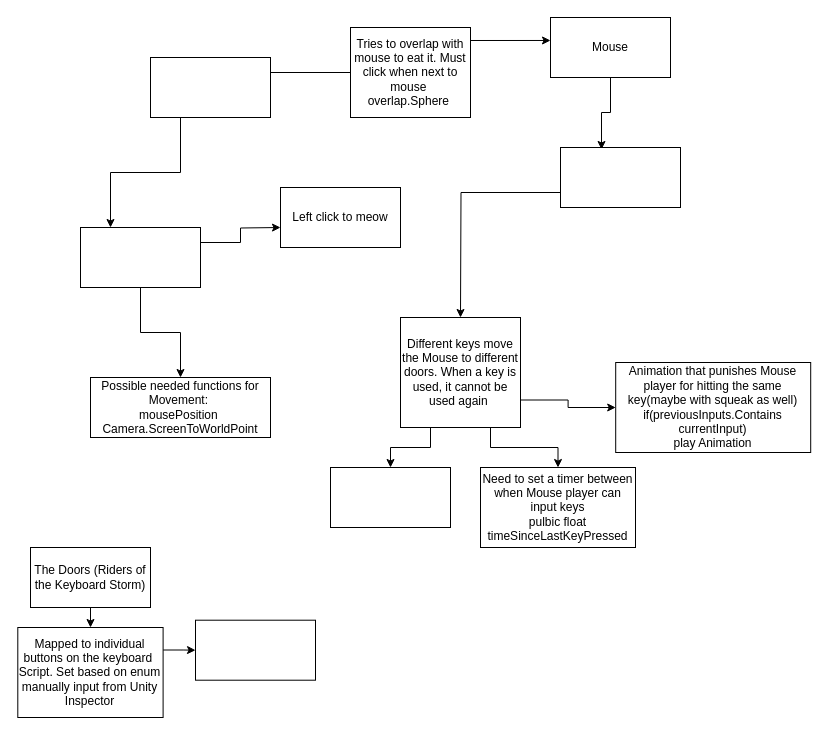
This 828x735 diagram has some shape labels left out. Here are the shapes that lost their labels. From the top down, the centre of each, then its label:
At (x=210, y=87): "Cat".
At (x=620, y=177): "Controller via keyboard".
At (x=140, y=257): "Controlled via mouse (movement only)".
At (x=390, y=497): "Will require list of previous inputs public List() previousInputs".
At (x=255, y=649): "Only Interact with mouse once each".
